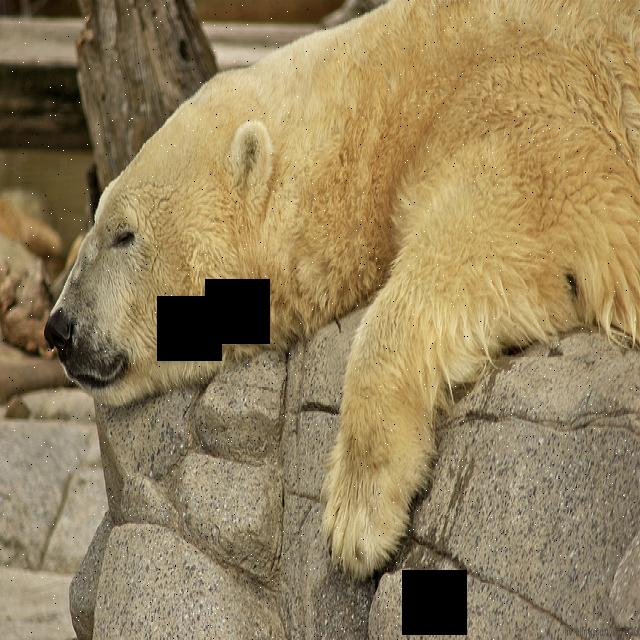Bear: (39, 2, 640, 601)
